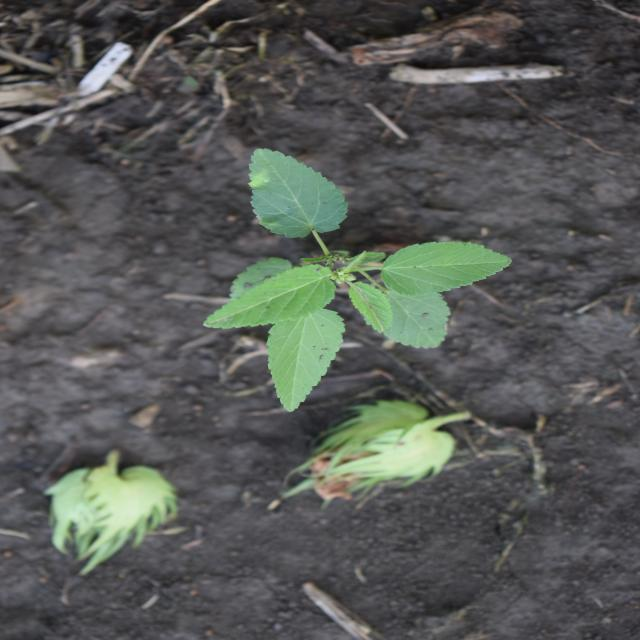PricklySida: (200, 146, 514, 414)
